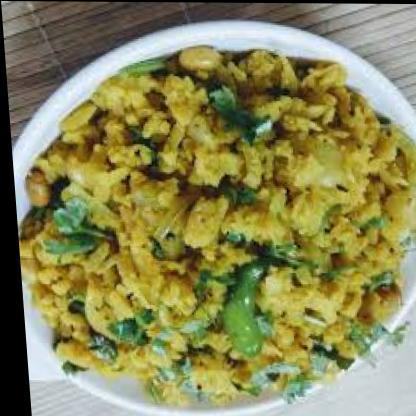poha: (3, 45, 416, 409)
